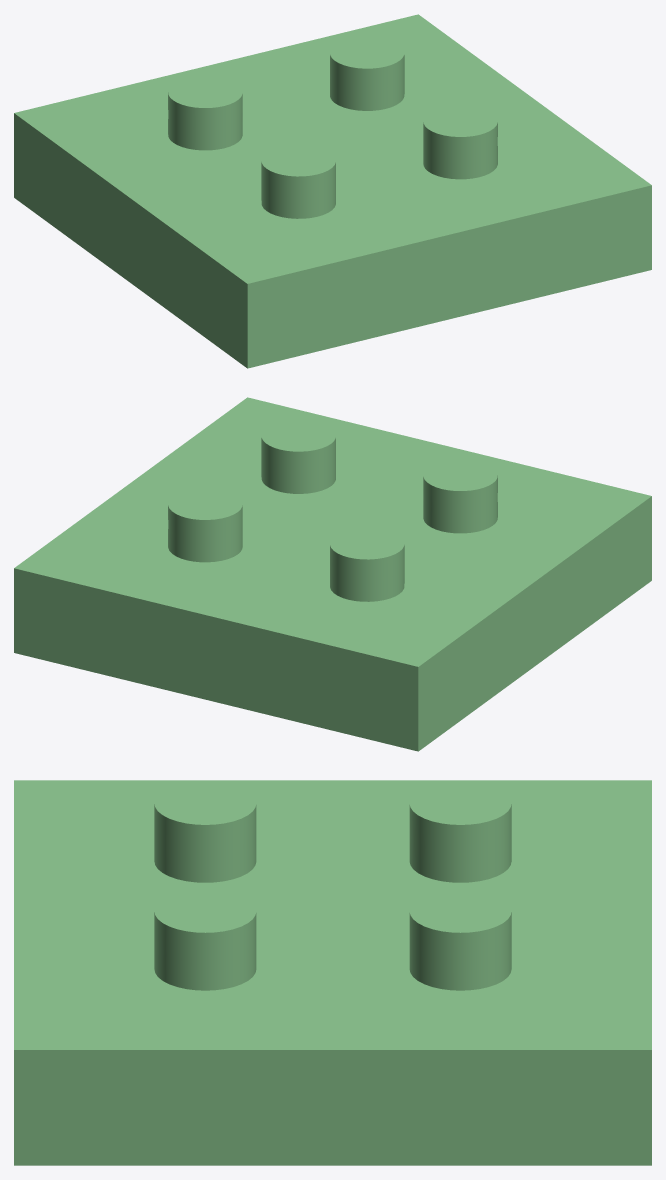
Rendered from Part_green.glb.
The picture shows the model from 3 angles, top to bottom: view 1: azimuth 30°, elevation 25°; view 2: azimuth 150°, elevation 25°; view 3: azimuth 270°, elevation 25°; orthographic projection. The views are drawn at different scales.
Visible parts, largest first — view 1: Body1; view 2: Body1; view 3: Body1.
Part boxes in pixels (left/top/right/bottom): Body1: left=14, top=14, right=651, bottom=368; Body1: left=14, top=397, right=651, bottom=751; Body1: left=14, top=780, right=651, bottom=1165.
Bounding box in the file's own units: 0.05 × 0.015 × 0.05.
